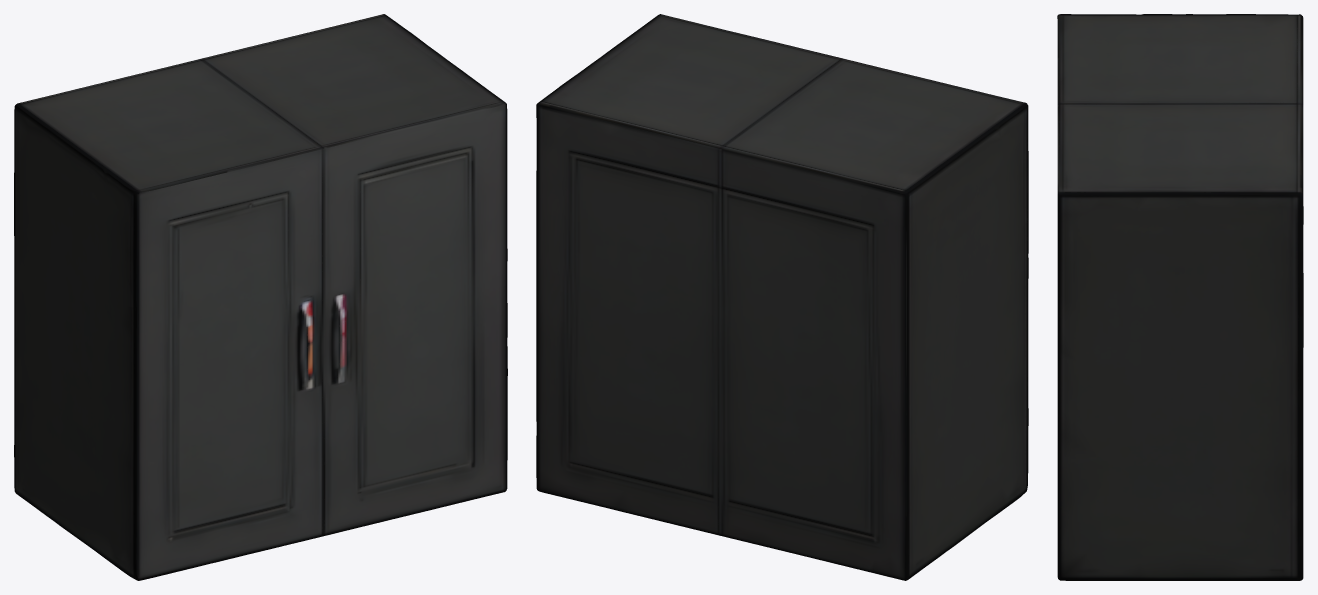
File: PlacardSdb1_3D_textured.glb
The picture shows the model from 3 angles, left to right: view 1: azimuth 30°, elevation 25°; view 2: azimuth 150°, elevation 25°; view 3: azimuth 270°, elevation 25°; orthographic projection.
Parts seen in each view (by area): view 1: temp_mesh.ply; view 2: temp_mesh.ply; view 3: temp_mesh.ply.
Boxes of the visible parts, <box> form: temp_mesh.ply: <box>14,14,507,580</box>; temp_mesh.ply: <box>536,14,1028,580</box>; temp_mesh.ply: <box>1057,14,1303,580</box>.
Bounding box in the file's own units: 1.97 × 1.97 × 1.13.
1 material, 1 textured.
